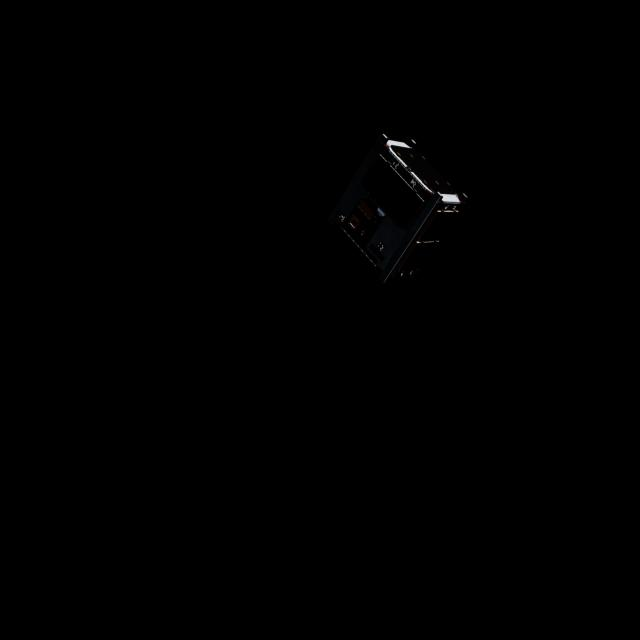satellite: (332, 125, 482, 300)
